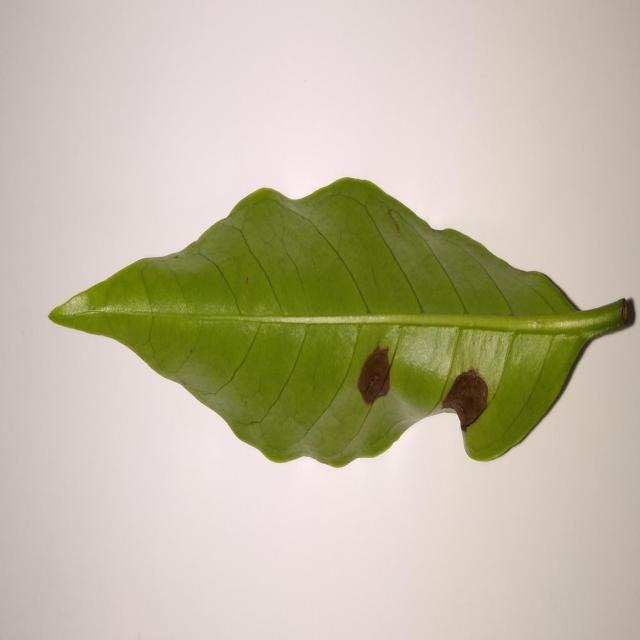Enfermedad-Antracnosis: (47, 179, 637, 471)
